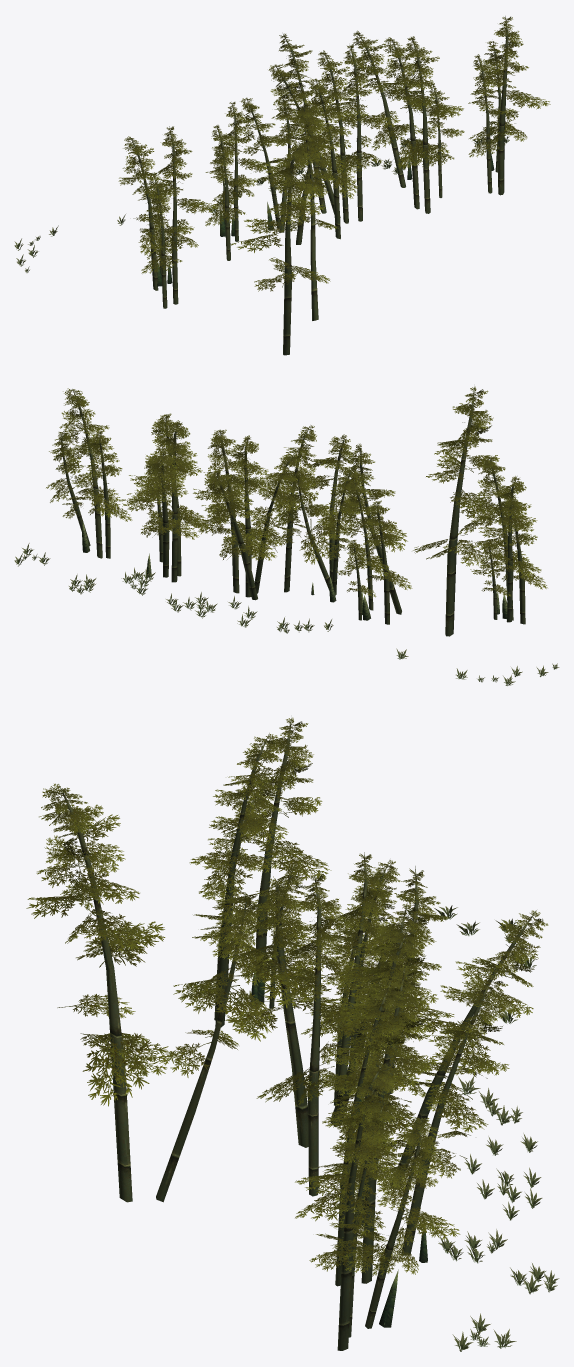
The model's file is Area_06_6.fbx.
3 renders of one model, top to bottom at view 1: azimuth 30°, elevation 25°; view 2: azimuth 150°, elevation 25°; view 3: azimuth 270°, elevation 25°, orthographic. The views are drawn at different scales.
Parts seen in each view (by area): view 1: Area_06_6; view 2: Area_06_6; view 3: Area_06_6.
Part boxes in pixels (x1,y1,x2,y2): Area_06_6: (14, 16, 550, 355); Area_06_6: (14, 386, 559, 685); Area_06_6: (26, 717, 559, 1351).
Bounding box in the file's own units: 4752 × 2060 × 2471.
